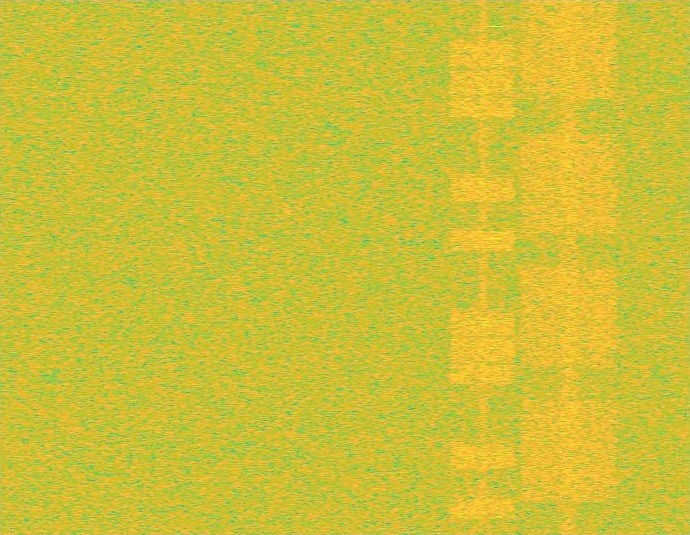5G: (517, 0, 621, 534)
DSSS: (558, 0, 581, 534), (478, 0, 488, 534)
LTE: (448, 0, 517, 534)
Radar: (489, 0, 502, 534)
